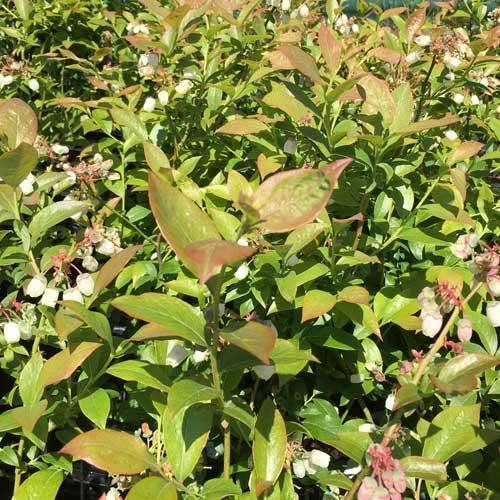Blueberry leaf: (135, 165, 231, 278), (233, 150, 360, 235), (110, 284, 220, 359), (52, 423, 174, 480), (252, 392, 297, 499), (216, 315, 298, 371), (432, 343, 499, 386)
